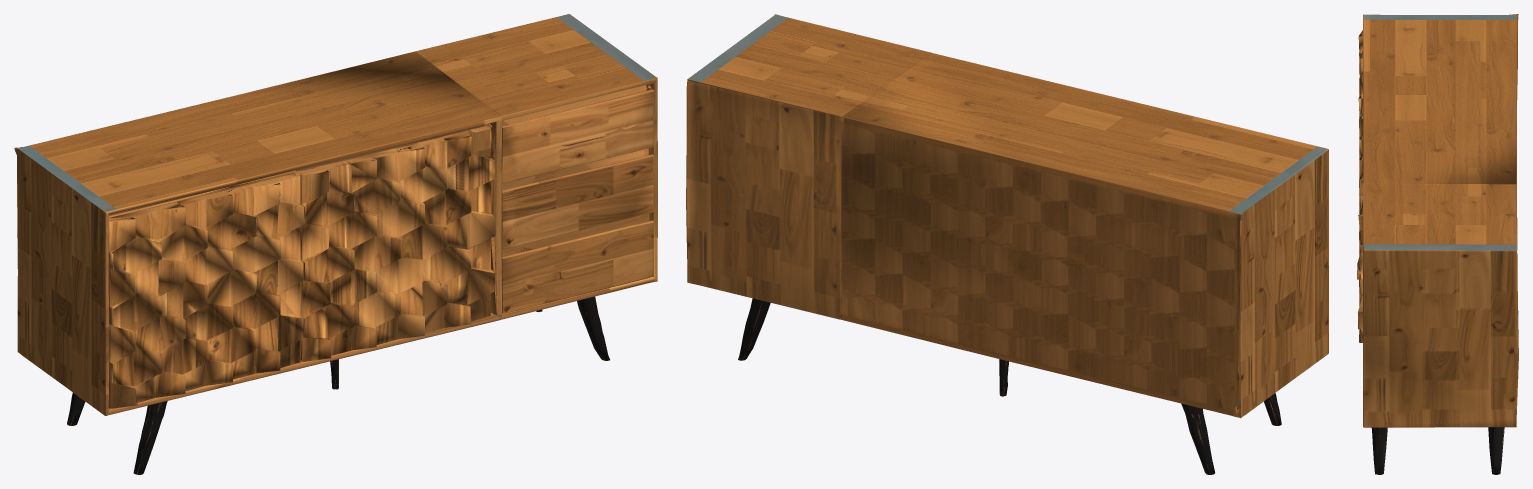
Rendered from sideboard.glb.
The picture shows the model from 3 angles, left to right: view 1: azimuth 30°, elevation 25°; view 2: azimuth 150°, elevation 25°; view 3: azimuth 270°, elevation 25°; orthographic projection. The views are drawn at different scales.
Size of the model in its own units: 0.9536 by 0.4575 by 0.2764.
1 material, 1 textured.
